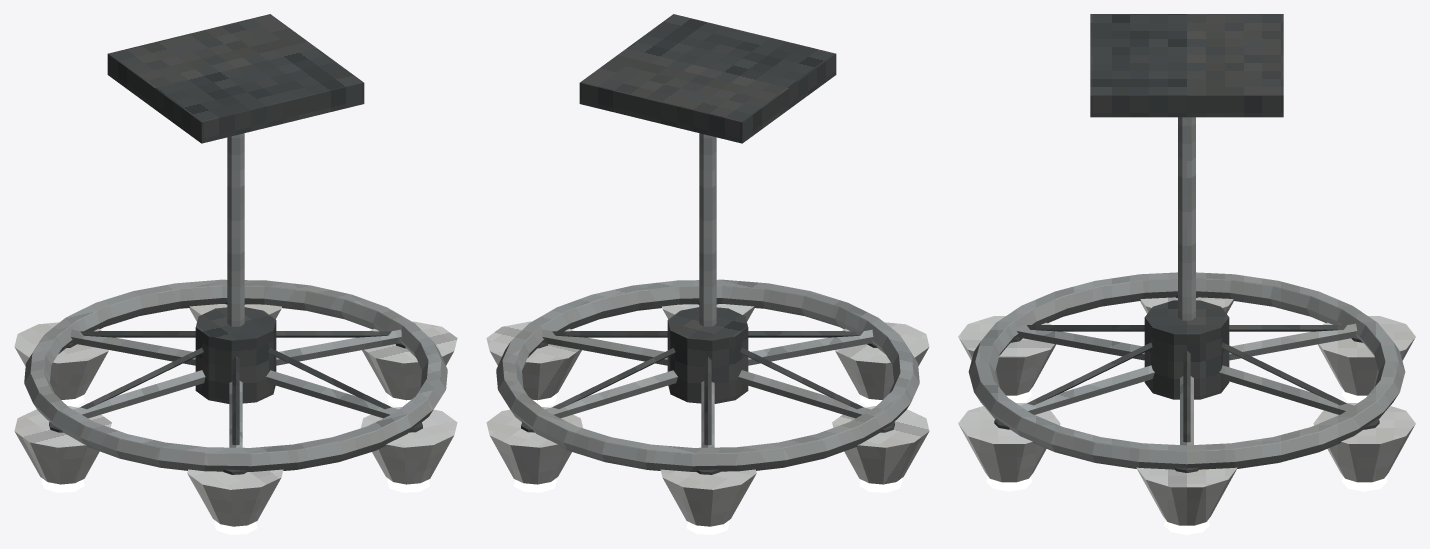
Rendered from chandelier.glb.
3 renders of one model, left to right at view 1: azimuth 30°, elevation 25°; view 2: azimuth 150°, elevation 25°; view 3: azimuth 270°, elevation 25°, orthographic. The views are drawn at different scales.
Parts seen in each view (by area): view 1: body, lamp_on; view 2: body, lamp_on; view 3: body, lamp_on.
Boxes of the visible parts, box(x1,y1,x2,y2) form: body: box(14, 14, 457, 526); lamp_on: box(41, 394, 429, 534); body: box(486, 14, 929, 526); lamp_on: box(514, 394, 902, 534); body: box(958, 14, 1415, 525); lamp_on: box(986, 390, 1387, 534).
Size of the model in its own units: 0.8417 by 0.702 by 0.7589.
Materials: 5 (3 with a texture image).
